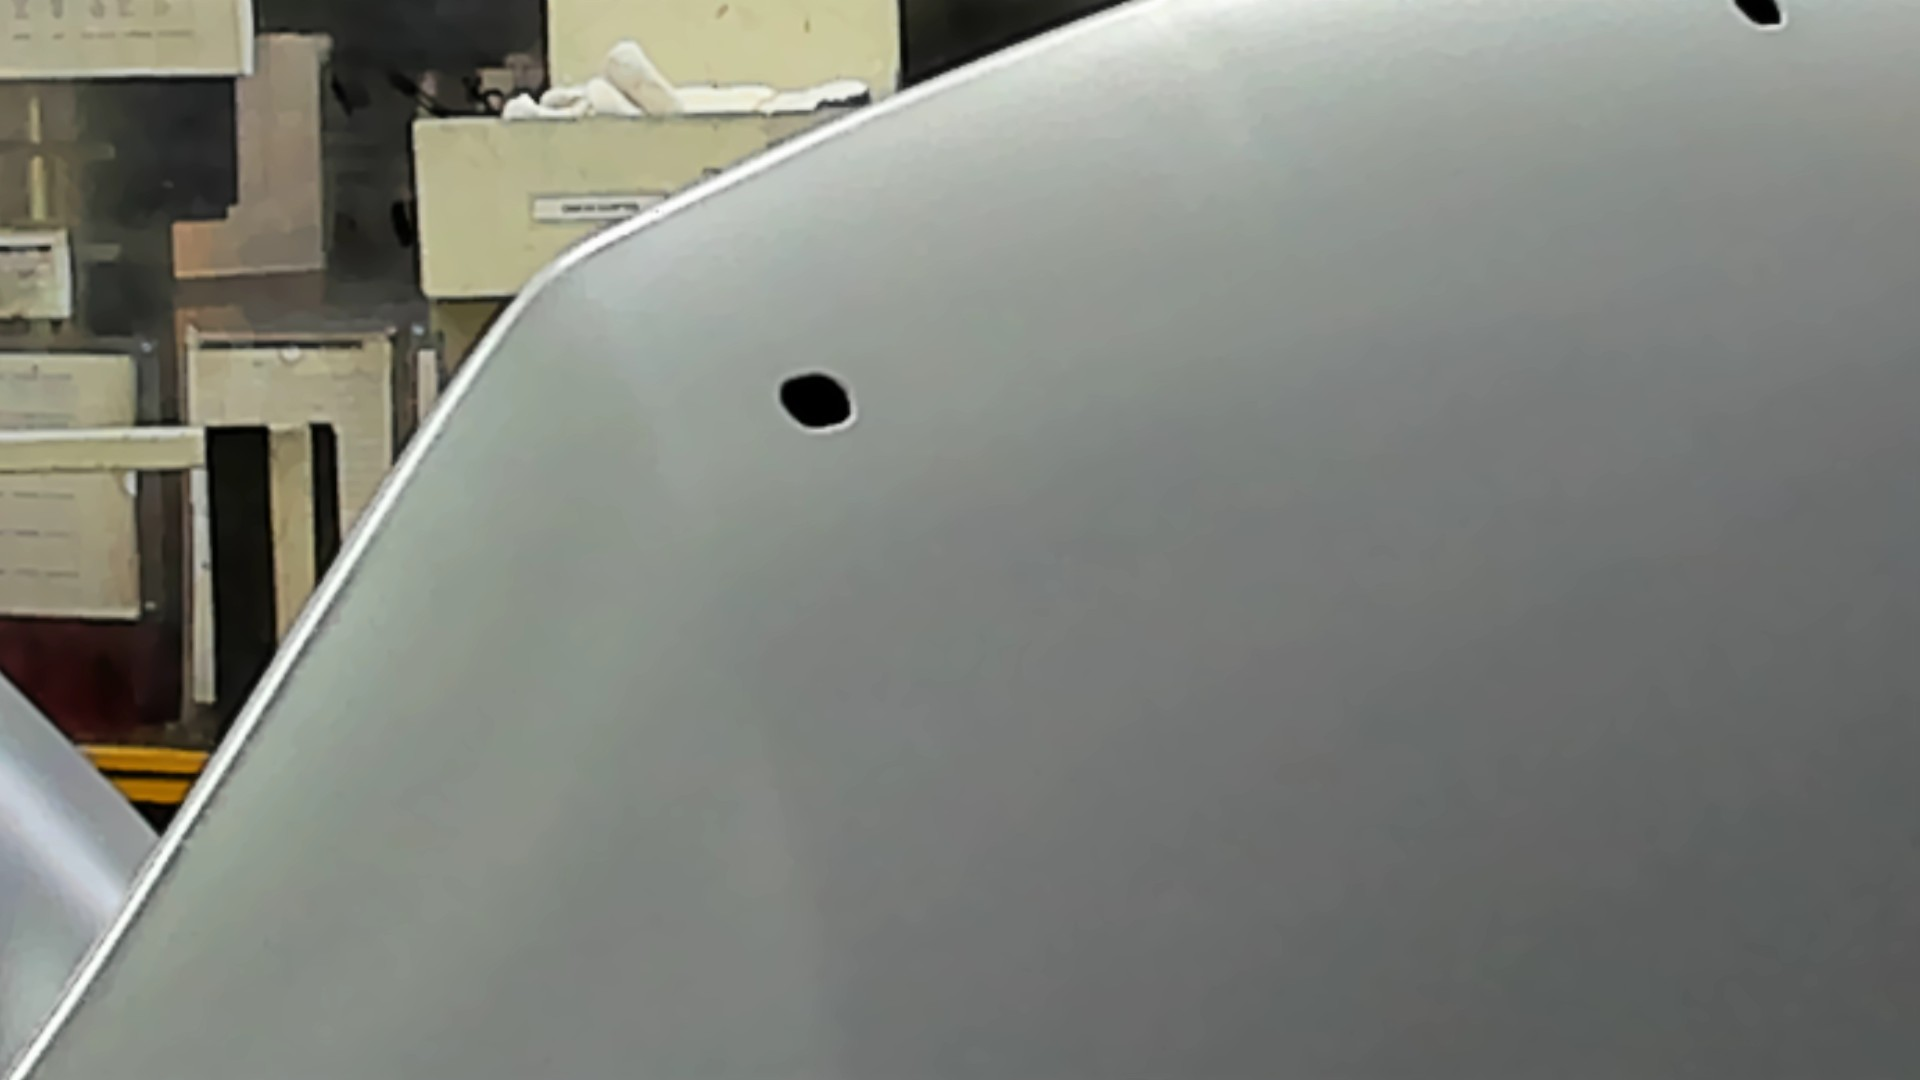amorfo: (767, 371, 861, 436), (1725, 1, 1791, 36)
